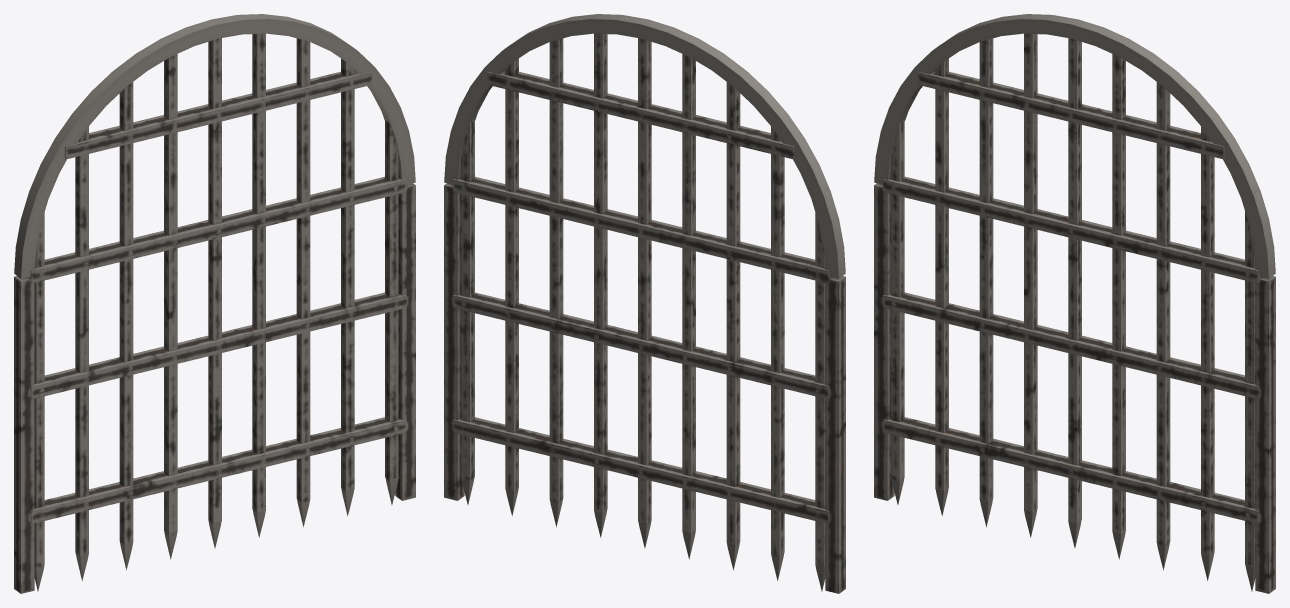
Rendered from iron_gate.glb.
The picture shows the model from 3 angles, left to right: view 1: azimuth 30°, elevation 25°; view 2: azimuth 150°, elevation 25°; view 3: azimuth 330°, elevation 25°; orthographic projection.
Parts seen in each view (by area): view 1: iron_gate; view 2: iron_gate; view 3: iron_gate.
Boxes of the visible parts, bbox=[...] form: iron_gate: bbox=[14, 14, 415, 593]; iron_gate: bbox=[444, 14, 845, 593]; iron_gate: bbox=[874, 14, 1275, 593].
Bounding box in the file's own units: 2.32 × 2.96 × 0.0854.
1 material, 1 textured.
